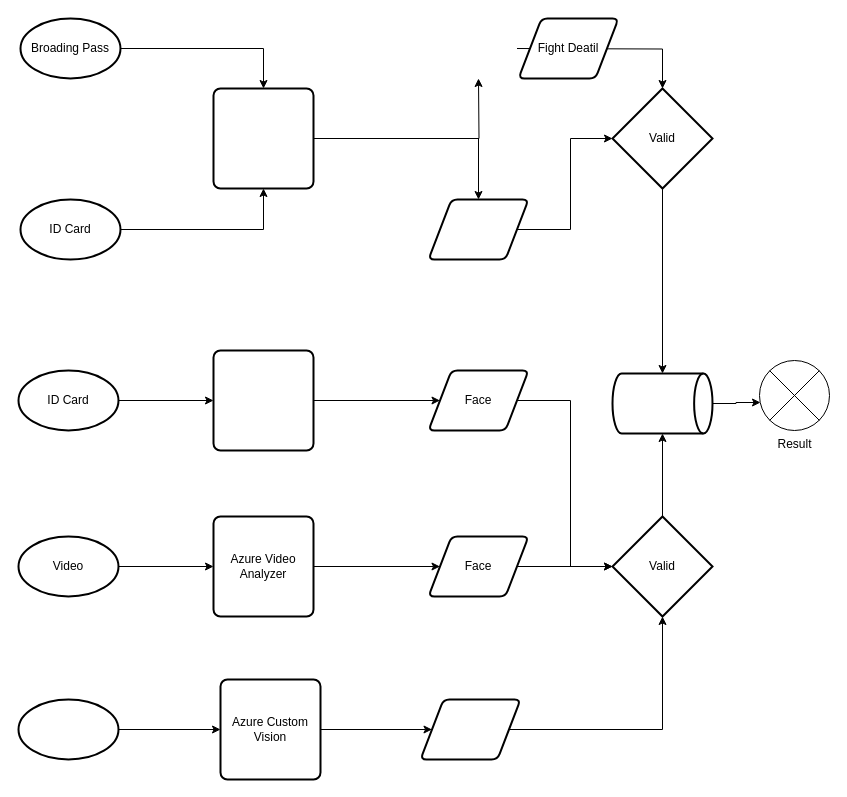
Some shapes in this 847 by 797 pixel diagram are drawn without their labels. The shapes that lost their labels are listed below. From the top down, each one's box as (x1, y1, x2, y2) in pixels, then its label:
(212, 87, 314, 189): Azure Form Reognizer
(427, 198, 529, 260): Passender Info
(212, 349, 314, 451): Azure Face API
(611, 372, 713, 434): Data Extraction
(17, 698, 119, 760): Lighter Images
(419, 698, 521, 760): Lighter Object
